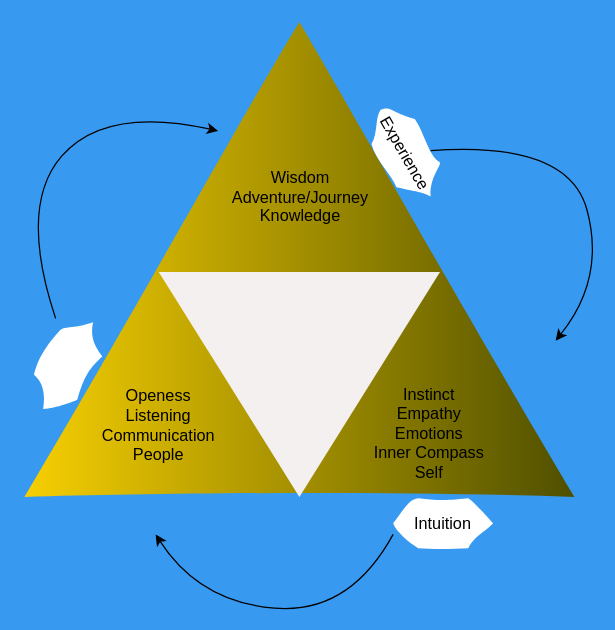
This 615x630 diagram has some shape labels left out. Here are the shapes that lost their labels. From the top down, the centre of each, then its label:
At point (67, 365): "Connection".
At point (298, 383): "Fulfilment Happiness Peace Live in the moment".
